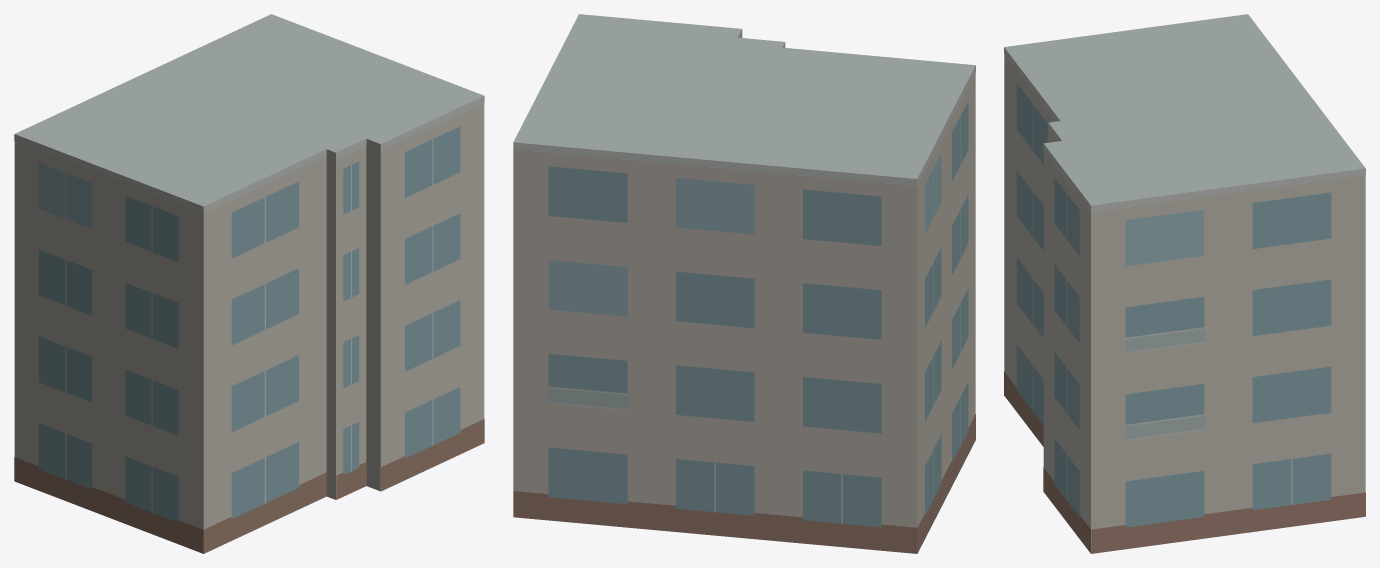
File: survey-upis-32811385.glb
3 views of the same model, side by side, from view 1: azimuth 30°, elevation 25°; view 2: azimuth 150°, elevation 25°; view 3: azimuth 270°, elevation 25° (orthographic). The views are drawn at different scales.
Visible parts, largest first — view 1: survey-upis-32811385.tmp; view 2: survey-upis-32811385.tmp; view 3: survey-upis-32811385.tmp.
Part boxes in pixels (x1=…): survey-upis-32811385.tmp: x1=14, y1=14, x2=484, y2=553; survey-upis-32811385.tmp: x1=513, y1=14, x2=975, y2=553; survey-upis-32811385.tmp: x1=1004, y1=14, x2=1365, y2=553.
Size of the model in its own units: 14.65 by 12.4 by 11.68.
